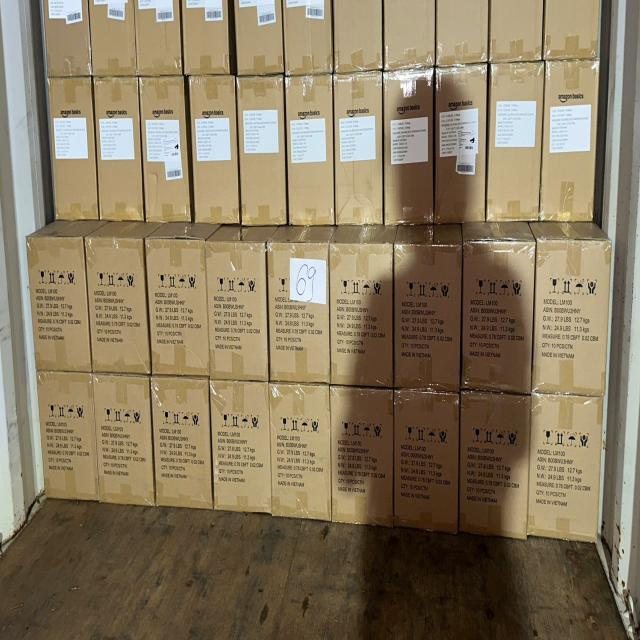Carton: (535, 236, 611, 392), (530, 396, 604, 543), (464, 243, 536, 391), (461, 391, 532, 536), (393, 244, 461, 394), (83, 234, 151, 377), (331, 241, 396, 386), (394, 392, 459, 536), (28, 234, 93, 376), (144, 237, 210, 375), (332, 386, 396, 526), (203, 244, 267, 384), (267, 245, 330, 387), (208, 379, 274, 514), (267, 384, 331, 518), (149, 376, 212, 508), (94, 374, 156, 504), (37, 370, 98, 500)
